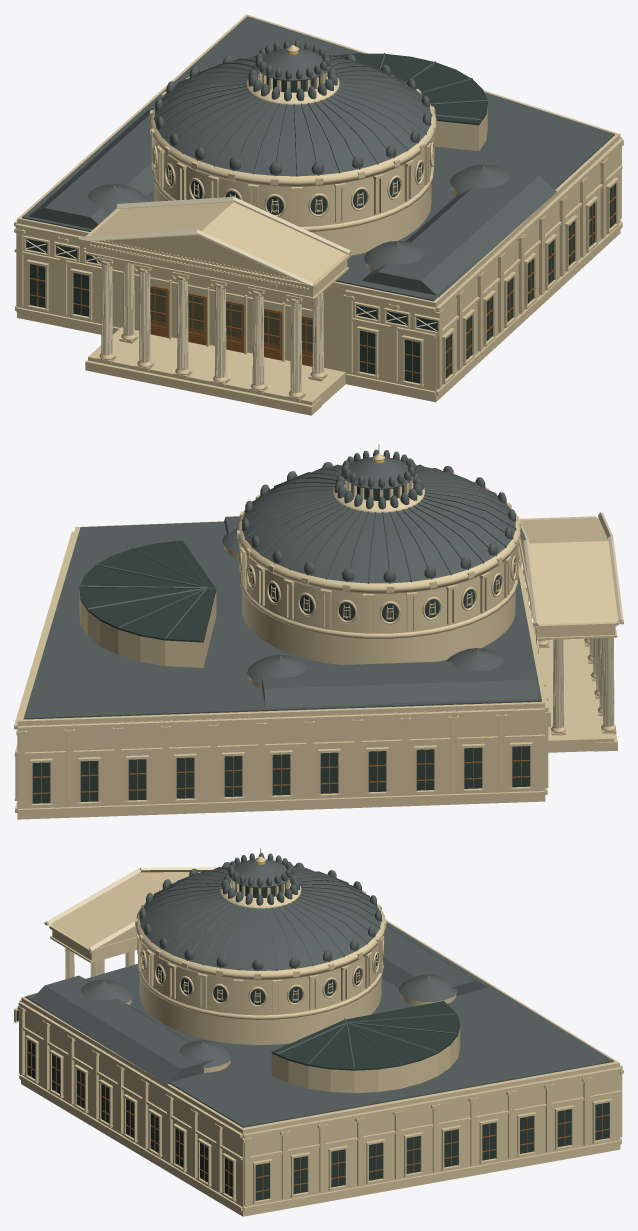
The model's file is romanian-athenaeum-near.glb.
The picture shows the model from 3 angles, top to bottom: view 1: azimuth 30°, elevation 25°; view 2: azimuth 150°, elevation 25°; view 3: azimuth 270°, elevation 25°; orthographic projection. The views are drawn at different scales.
Visible parts, largest first — view 1: romanian-athenaeum-0-stone, romanian-athenaeum-0-roof, romanian-athenaeum-0-trim, romanian-athenaeum-0-glass, romanian-athenaeum-0-wood, romanian-athenaeum-0-glow; view 2: romanian-athenaeum-0-stone, romanian-athenaeum-0-roof, romanian-athenaeum-0-glass, romanian-athenaeum-0-trim, romanian-athenaeum-0-wood; view 3: romanian-athenaeum-0-stone, romanian-athenaeum-0-roof, romanian-athenaeum-0-glass, romanian-athenaeum-0-trim, romanian-athenaeum-0-wood.
Boxes of the visible parts, x1,y1,x2,y2 form: romanian-athenaeum-0-stone: (14, 14, 623, 415); romanian-athenaeum-0-roof: (22, 16, 614, 301); romanian-athenaeum-0-trim: (26, 147, 436, 392); romanian-athenaeum-0-glass: (26, 53, 615, 383); romanian-athenaeum-0-wood: (29, 186, 616, 381); romanian-athenaeum-0-glow: (150, 287, 312, 351); romanian-athenaeum-0-stone: (14, 453, 623, 819); romanian-athenaeum-0-roof: (23, 449, 541, 719); romanian-athenaeum-0-glass: (32, 484, 530, 803); romanian-athenaeum-0-trim: (239, 512, 622, 727); romanian-athenaeum-0-wood: (33, 747, 529, 802); romanian-athenaeum-0-stone: (14, 856, 623, 1216); romanian-athenaeum-0-roof: (25, 852, 613, 1127); romanian-athenaeum-0-glass: (16, 883, 609, 1200); romanian-athenaeum-0-trim: (46, 867, 377, 1003); romanian-athenaeum-0-wood: (27, 1042, 609, 1199).
Bounding box in the file's own units: 67.03 × 31 × 73.48.
